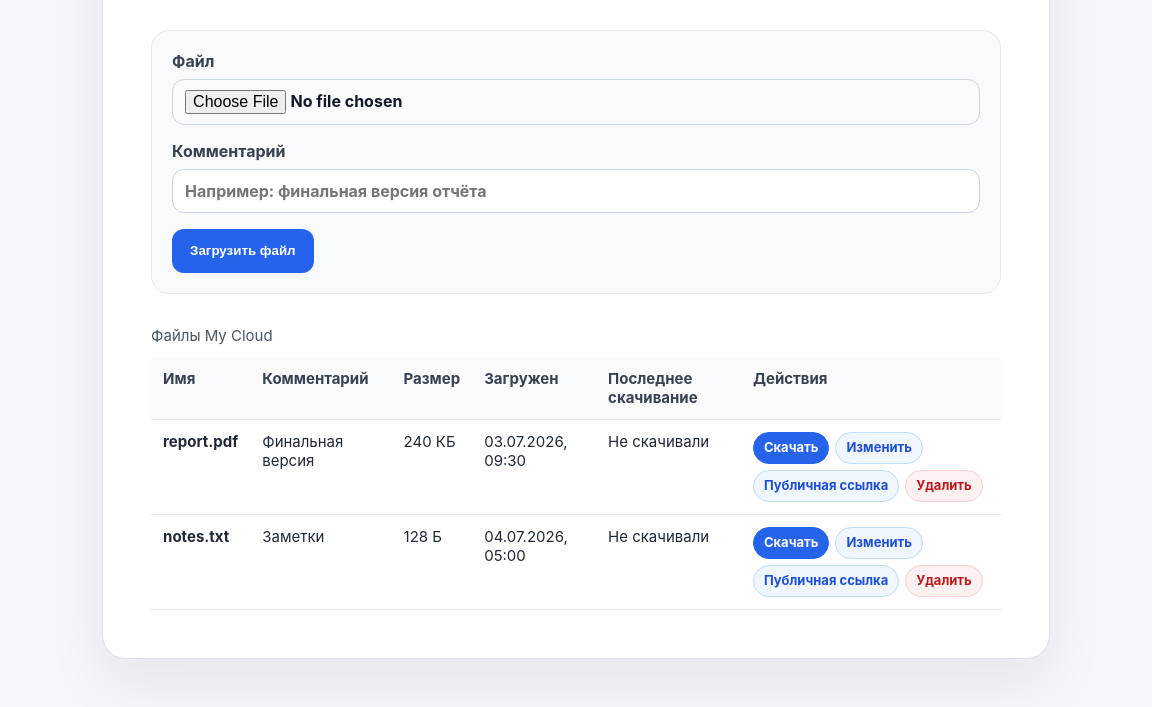
Test: App › edits file metadata
This screenshot has width=1152, height=707.
(page scrolled)
expect the column heading "report.pdf" is shown: met, box [151,419,250,514]
Click the button "Изменить" in the row of "report.pdf". click: (879, 448)
box: [835,432,923,464]
(page scrolled)
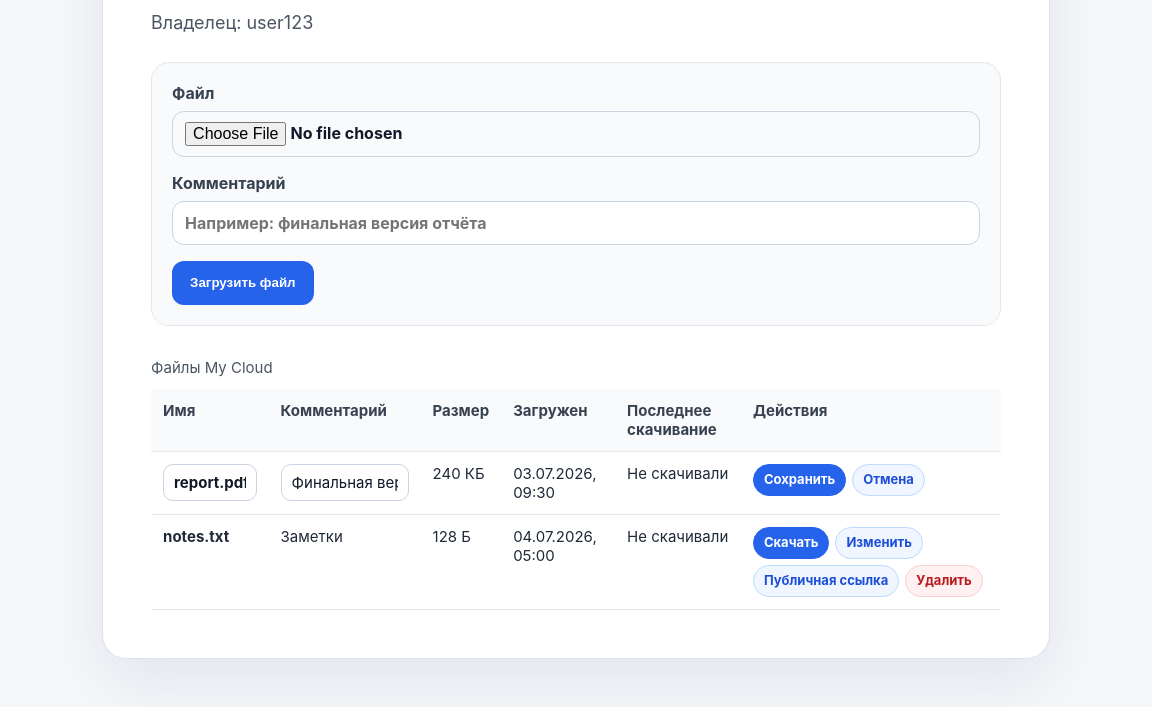
Replace the text in the field named "Новое имя файла report.pdf" with "renamed.pdf". click: (210, 482)
box: [163,464,257,501]
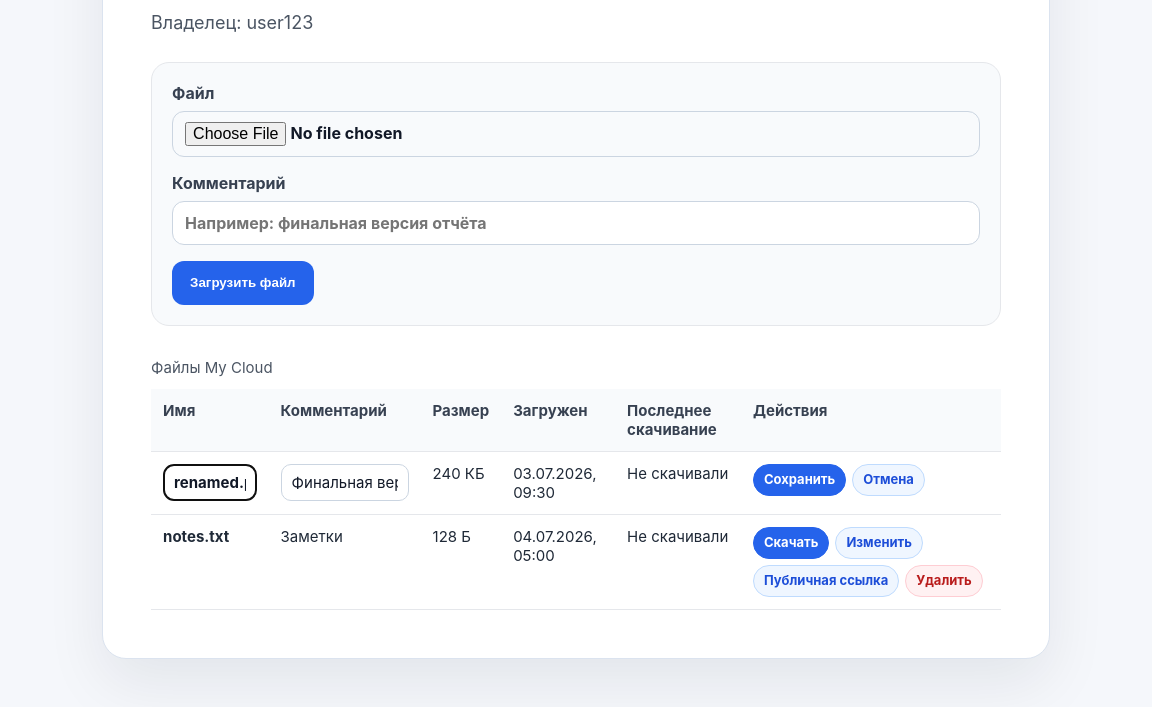
Replace the text in the field named "Новый комментарий файла report.pdf" with "Исправленная версия". click: (345, 482)
box: [281,464,409,501]
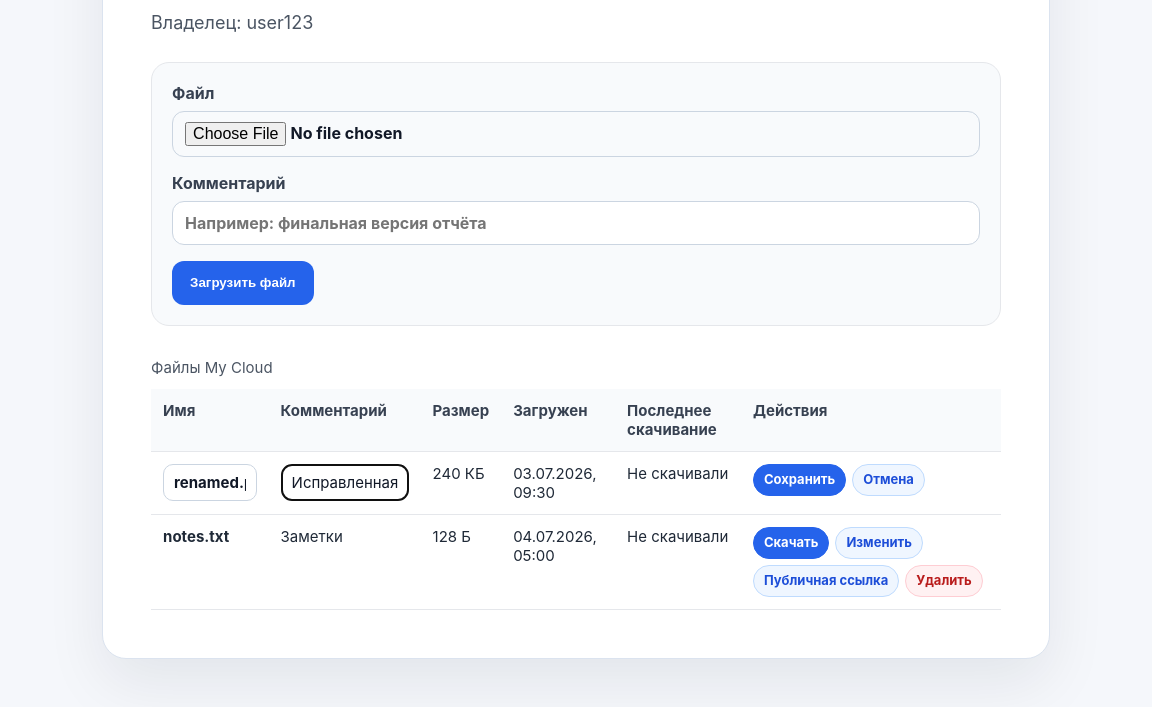
Click the button "Сохранить". click: (800, 480)
box: [753,464,846,496]
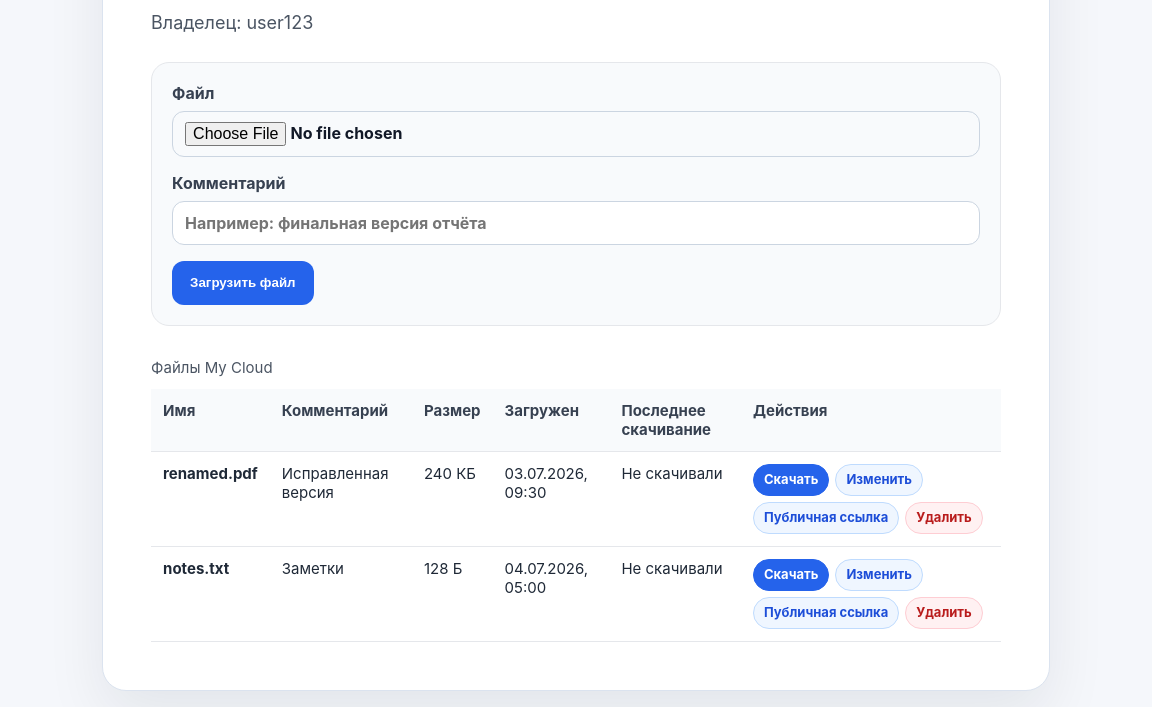
expect the column heading "notes.txt" is shown: met, box [151,546,270,641]
expect the column heading "renamed.pdf" is shown: met, box [151,451,270,546]
expect the text "Исправленная версия" is shown: met, box [270,451,412,546]
